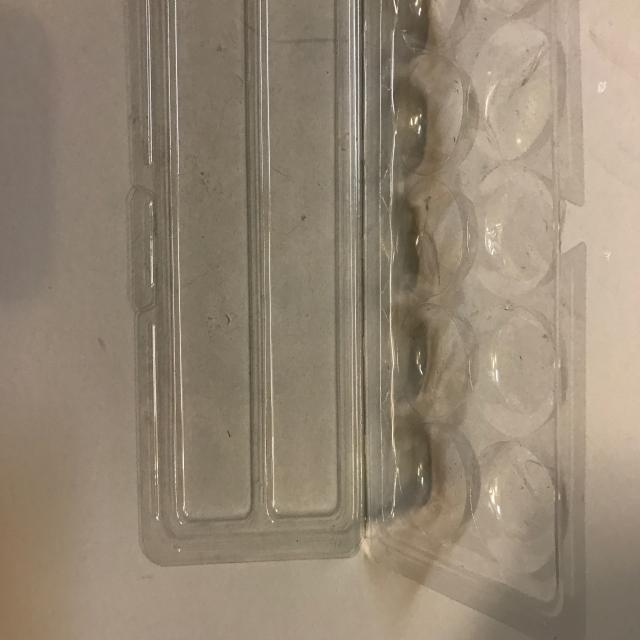plastic: (365, 0, 587, 626)
